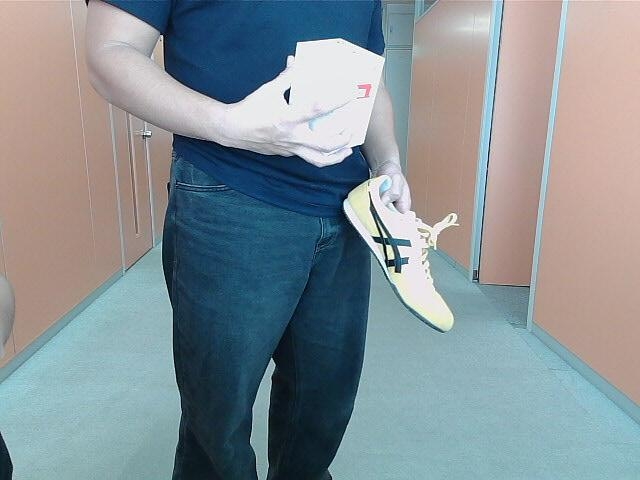Blind_box: (288, 36, 386, 152)
Shoes: (338, 170, 454, 342)
